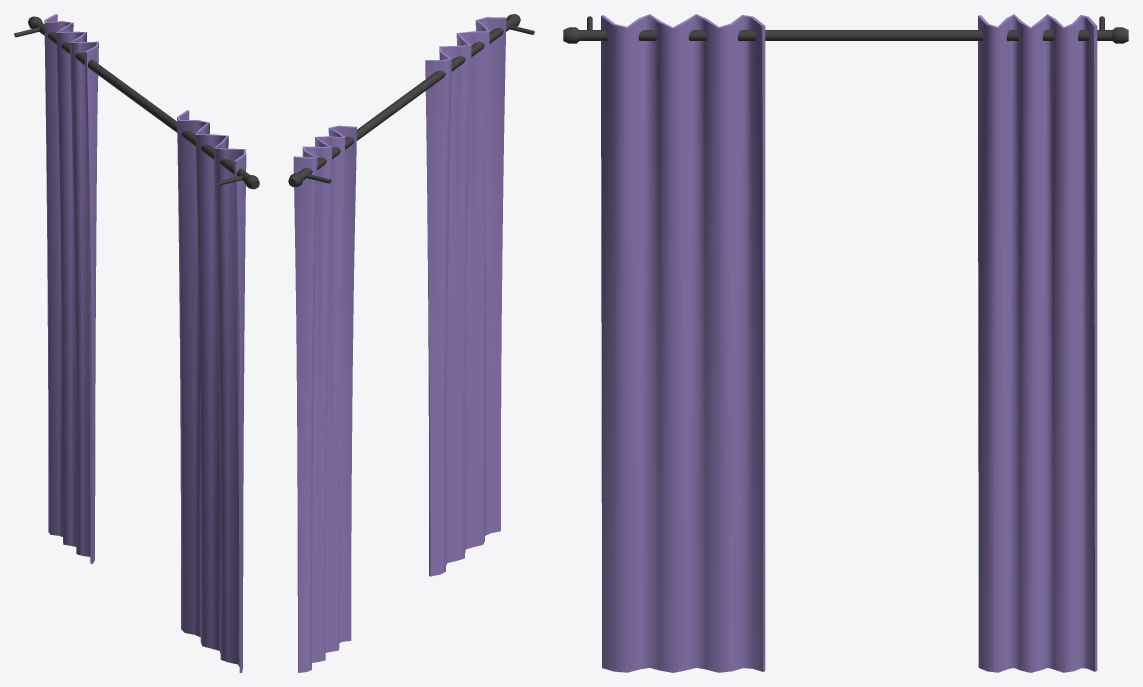
The model's file is Rideau.fbx.
3 renders of one model, left to right at view 1: azimuth 30°, elevation 25°; view 2: azimuth 150°, elevation 25°; view 3: azimuth 270°, elevation 25°, orthographic. The views are drawn at different scales.
Parts seen in each view (by area): view 1: Rideau; view 2: Rideau; view 3: Rideau.
Part boxes in pixels (box(x1,y1,x2,y2)): Rideau: box(14, 14, 259, 672); Rideau: box(288, 14, 534, 672); Rideau: box(563, 14, 1128, 672).
Bounding box in the file's own units: 19.15 × 215 × 170.
